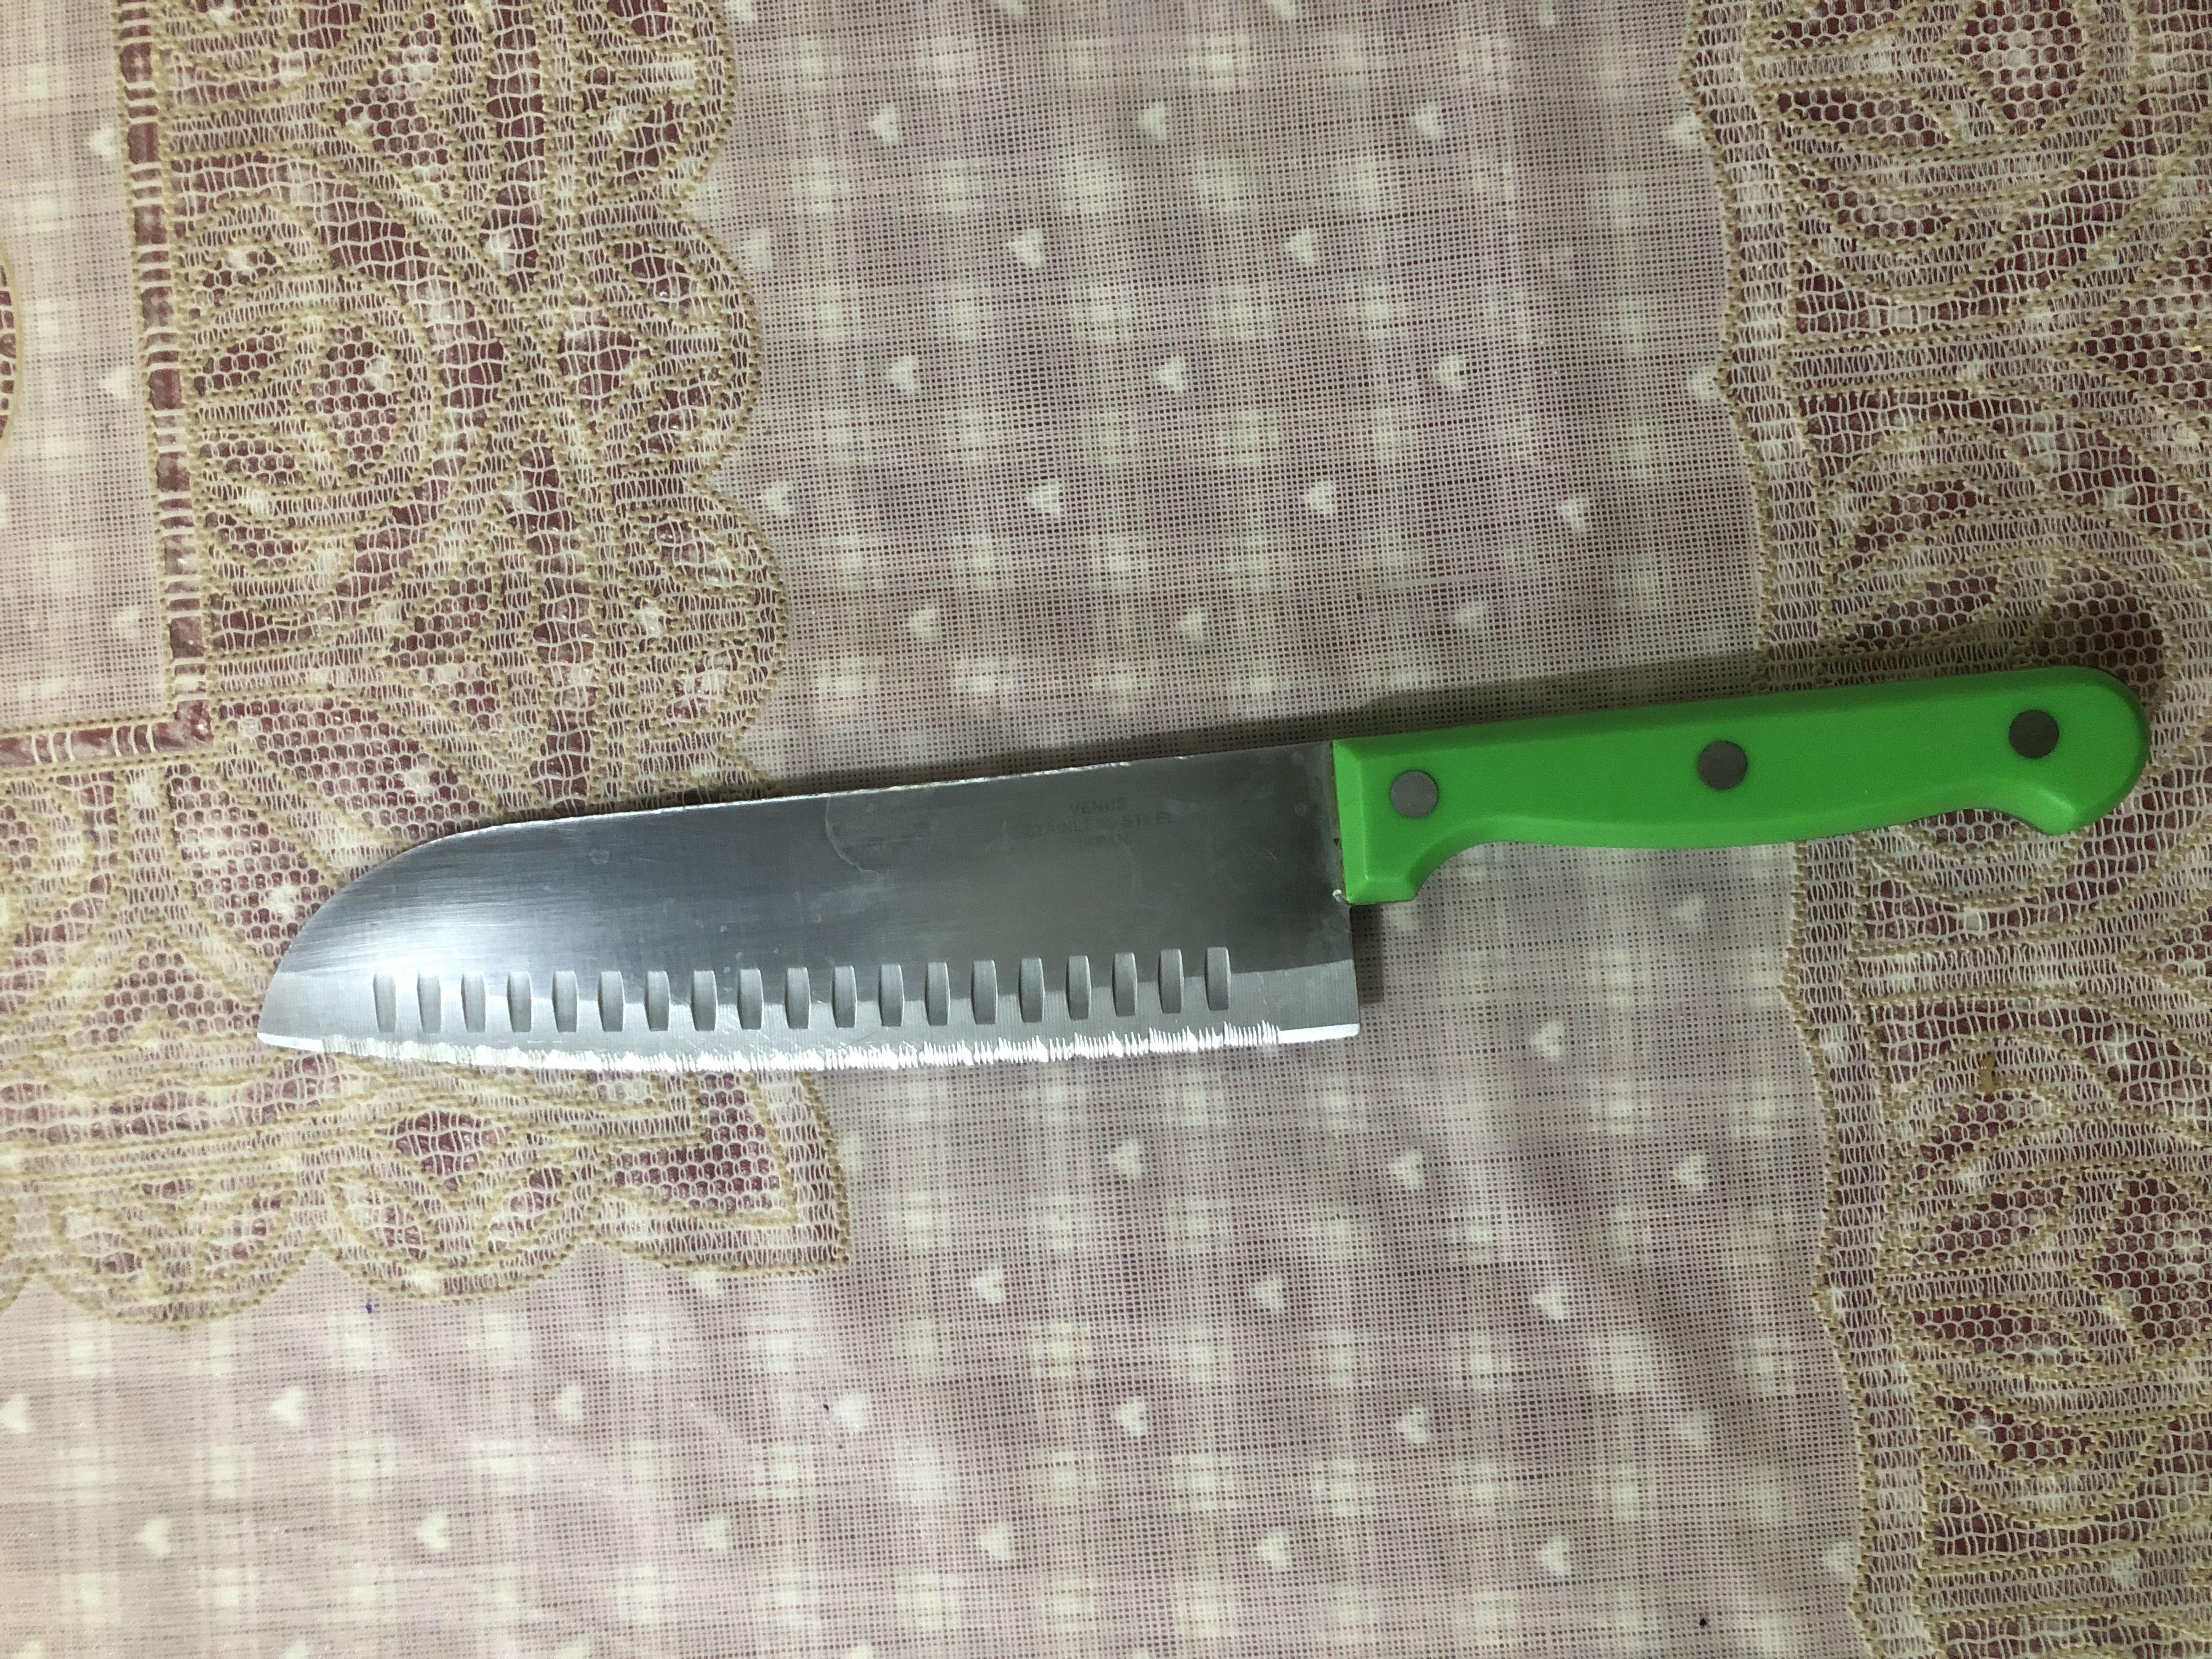weapon: (777, 186, 1332, 1612)
